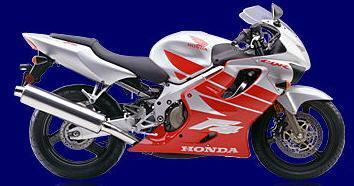motorcycle: (8, 1, 351, 186)
